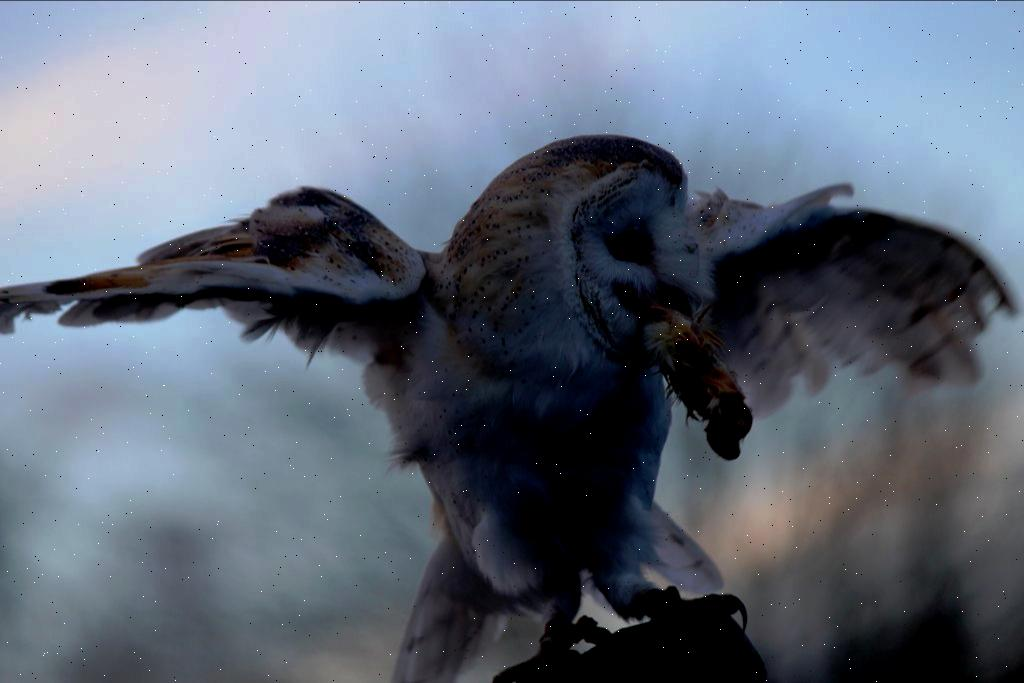Owl: (0, 129, 1022, 682), (158, 131, 879, 624)
